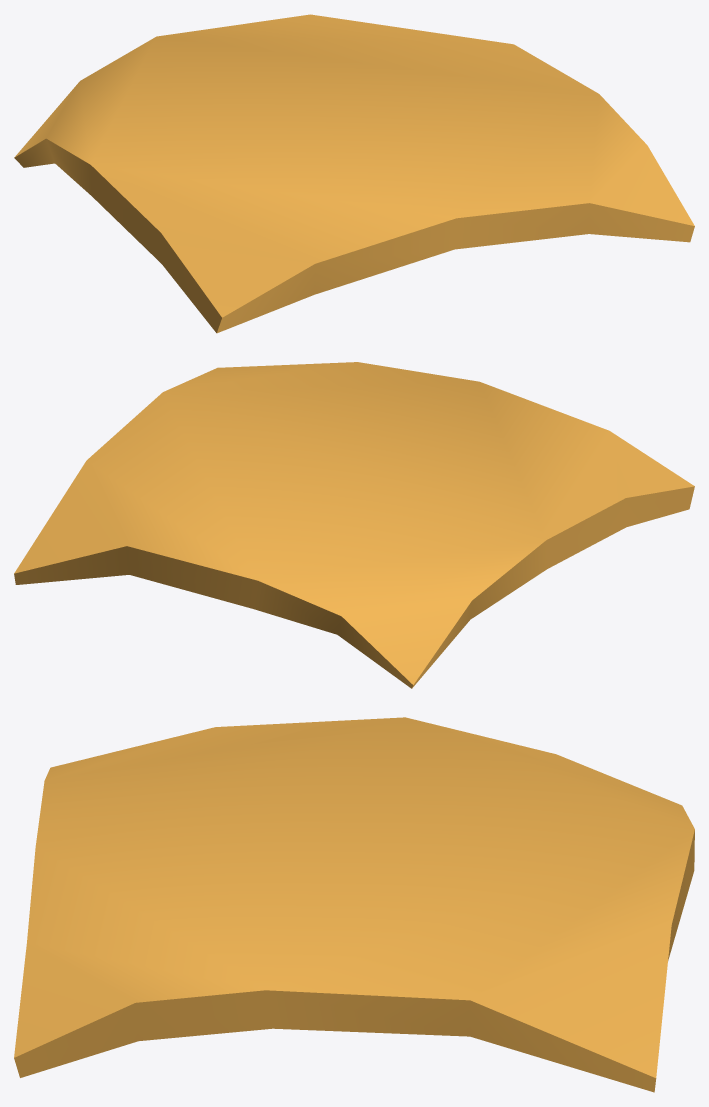
Rendered from SM_Prop_Good_Cheese_Slice.fbx.
3 views of the same model, one above another, from view 1: azimuth 30°, elevation 25°; view 2: azimuth 150°, elevation 25°; view 3: azimuth 270°, elevation 25° (orthographic). The views are drawn at different scales.
Visible parts, largest first — view 1: SM_Prop_Food_Cheese_Slice_01; view 2: SM_Prop_Food_Cheese_Slice_01; view 3: SM_Prop_Food_Cheese_Slice_01.
Boxes of the visible parts, bbox=[...] form: SM_Prop_Food_Cheese_Slice_01: bbox=[14, 14, 694, 333]; SM_Prop_Food_Cheese_Slice_01: bbox=[14, 362, 694, 688]; SM_Prop_Food_Cheese_Slice_01: bbox=[14, 717, 694, 1092].
Bounding box in the file's own units: 19.89 × 3.66 × 20.3.
